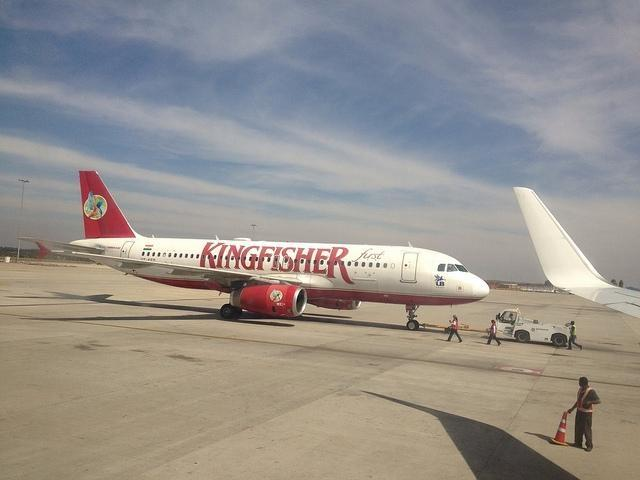truck: (494, 308, 571, 348)
